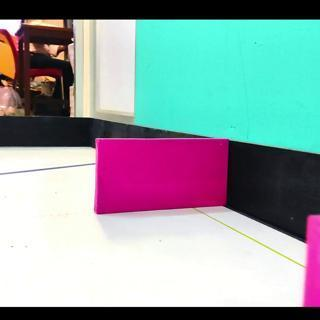xparking: (98, 142, 220, 208), (310, 222, 314, 306)
